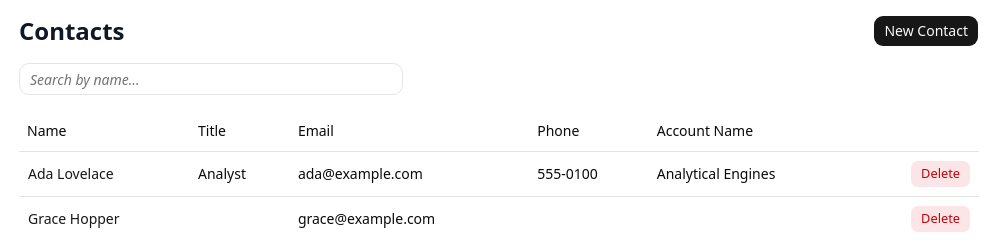
Test: ContactsPage › searches by name on the server once the user stops typing
The width and height of the screenshot is (996, 249).
Check: the button "Ada Lovelace" is shown, box [27, 162, 115, 184]
In the search field named "Search contacts by name": [211, 79] box [19, 63, 403, 95], type "lov"
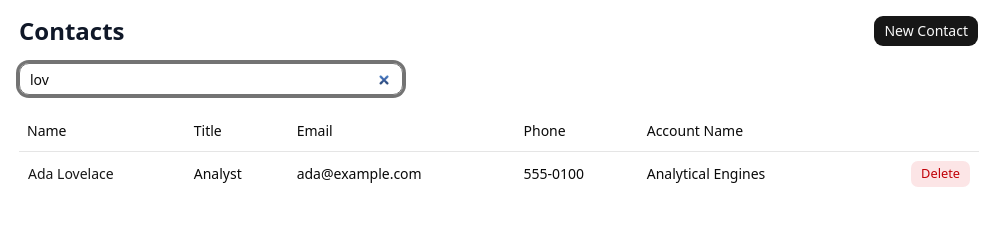
Check: the button "Grace Hopper" is gone
